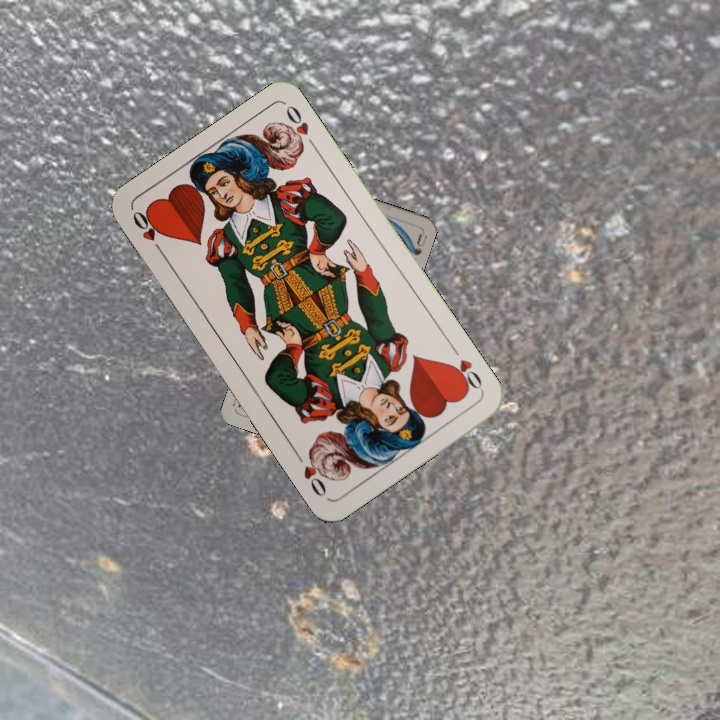HO: (445, 341, 485, 394), (128, 206, 168, 259)
